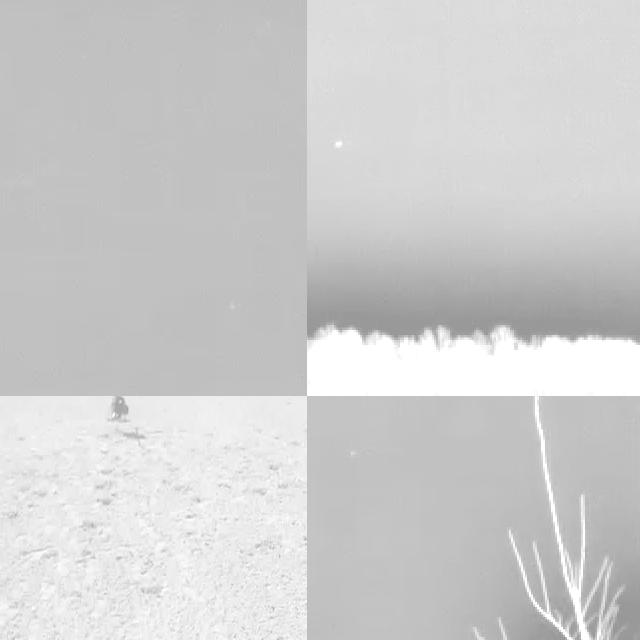0: (339, 442, 361, 467), (220, 299, 240, 321)
1: (320, 134, 348, 161)
drone: (83, 396, 156, 431)
